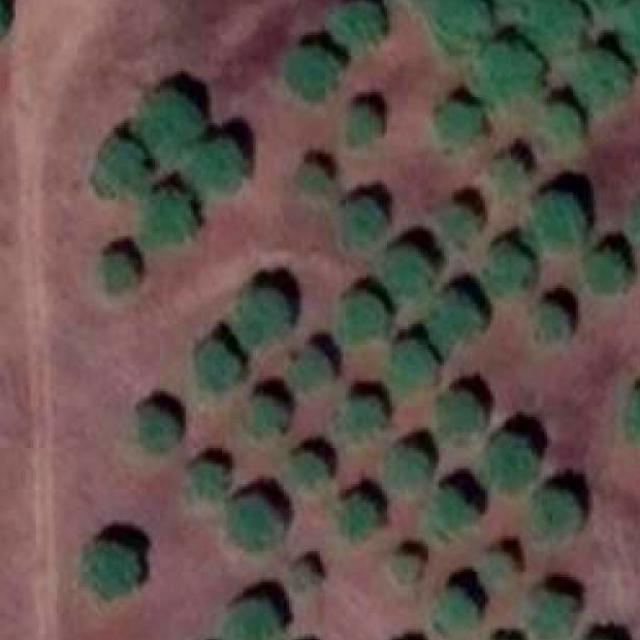Tree: (473, 40, 539, 103), (231, 283, 294, 345), (133, 90, 194, 152), (78, 541, 140, 602), (278, 46, 340, 106), (526, 195, 588, 252), (573, 48, 630, 106), (227, 493, 284, 550), (97, 138, 152, 195), (428, 291, 482, 349), (424, 0, 501, 40), (184, 136, 239, 191), (528, 484, 580, 539), (528, 0, 586, 49), (142, 193, 193, 248), (227, 595, 287, 640), (482, 433, 532, 486), (381, 242, 433, 291), (529, 594, 584, 640), (535, 105, 584, 155), (436, 200, 483, 249), (390, 342, 439, 389), (581, 245, 627, 295), (380, 448, 425, 499), (437, 391, 485, 438), (341, 288, 387, 337), (334, 198, 384, 243), (483, 244, 530, 291), (333, 0, 384, 43), (438, 587, 482, 634), (525, 303, 573, 346), (188, 456, 232, 501), (133, 407, 176, 453), (339, 396, 384, 438), (485, 154, 532, 194), (241, 399, 284, 442), (194, 345, 237, 388), (100, 244, 139, 291), (441, 97, 482, 141), (334, 494, 374, 536), (433, 492, 477, 530), (288, 345, 327, 386), (294, 164, 330, 207), (343, 108, 382, 146), (477, 550, 513, 588), (618, 0, 640, 61), (292, 451, 325, 488), (392, 549, 423, 586), (289, 560, 320, 596), (633, 193, 640, 247), (485, 630, 519, 640), (575, 634, 630, 640)
